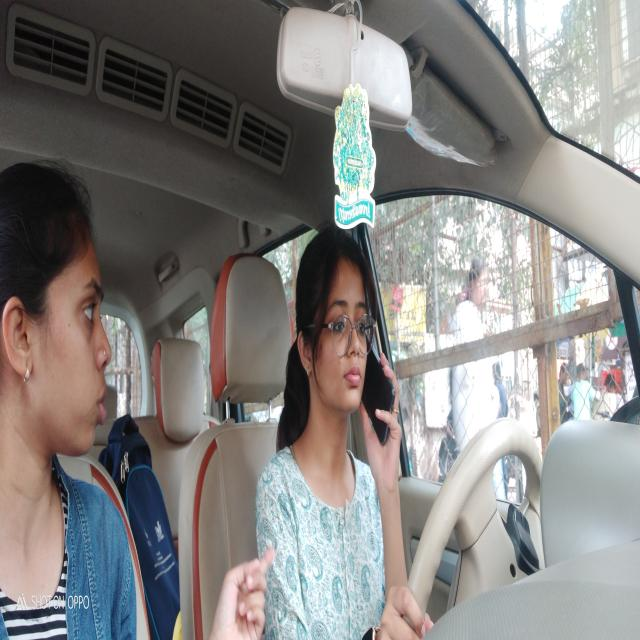mobile: (366, 332, 400, 454)
person: (0, 155, 116, 465), (295, 215, 375, 422)
